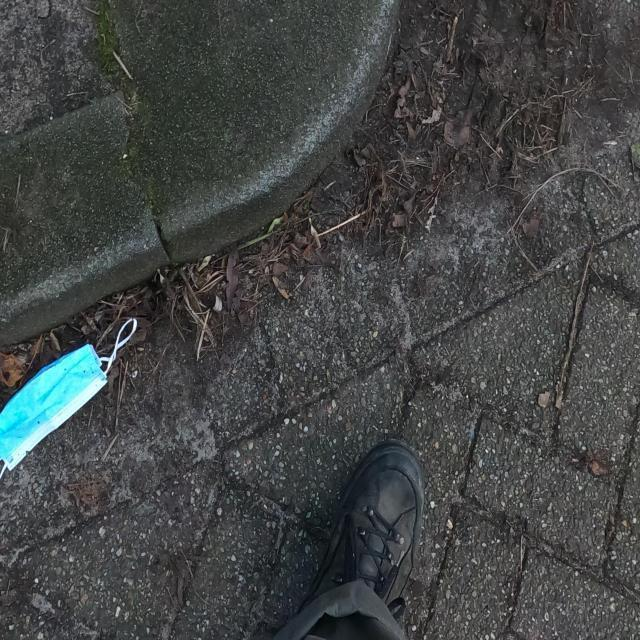Mask: (0, 310, 140, 486)
